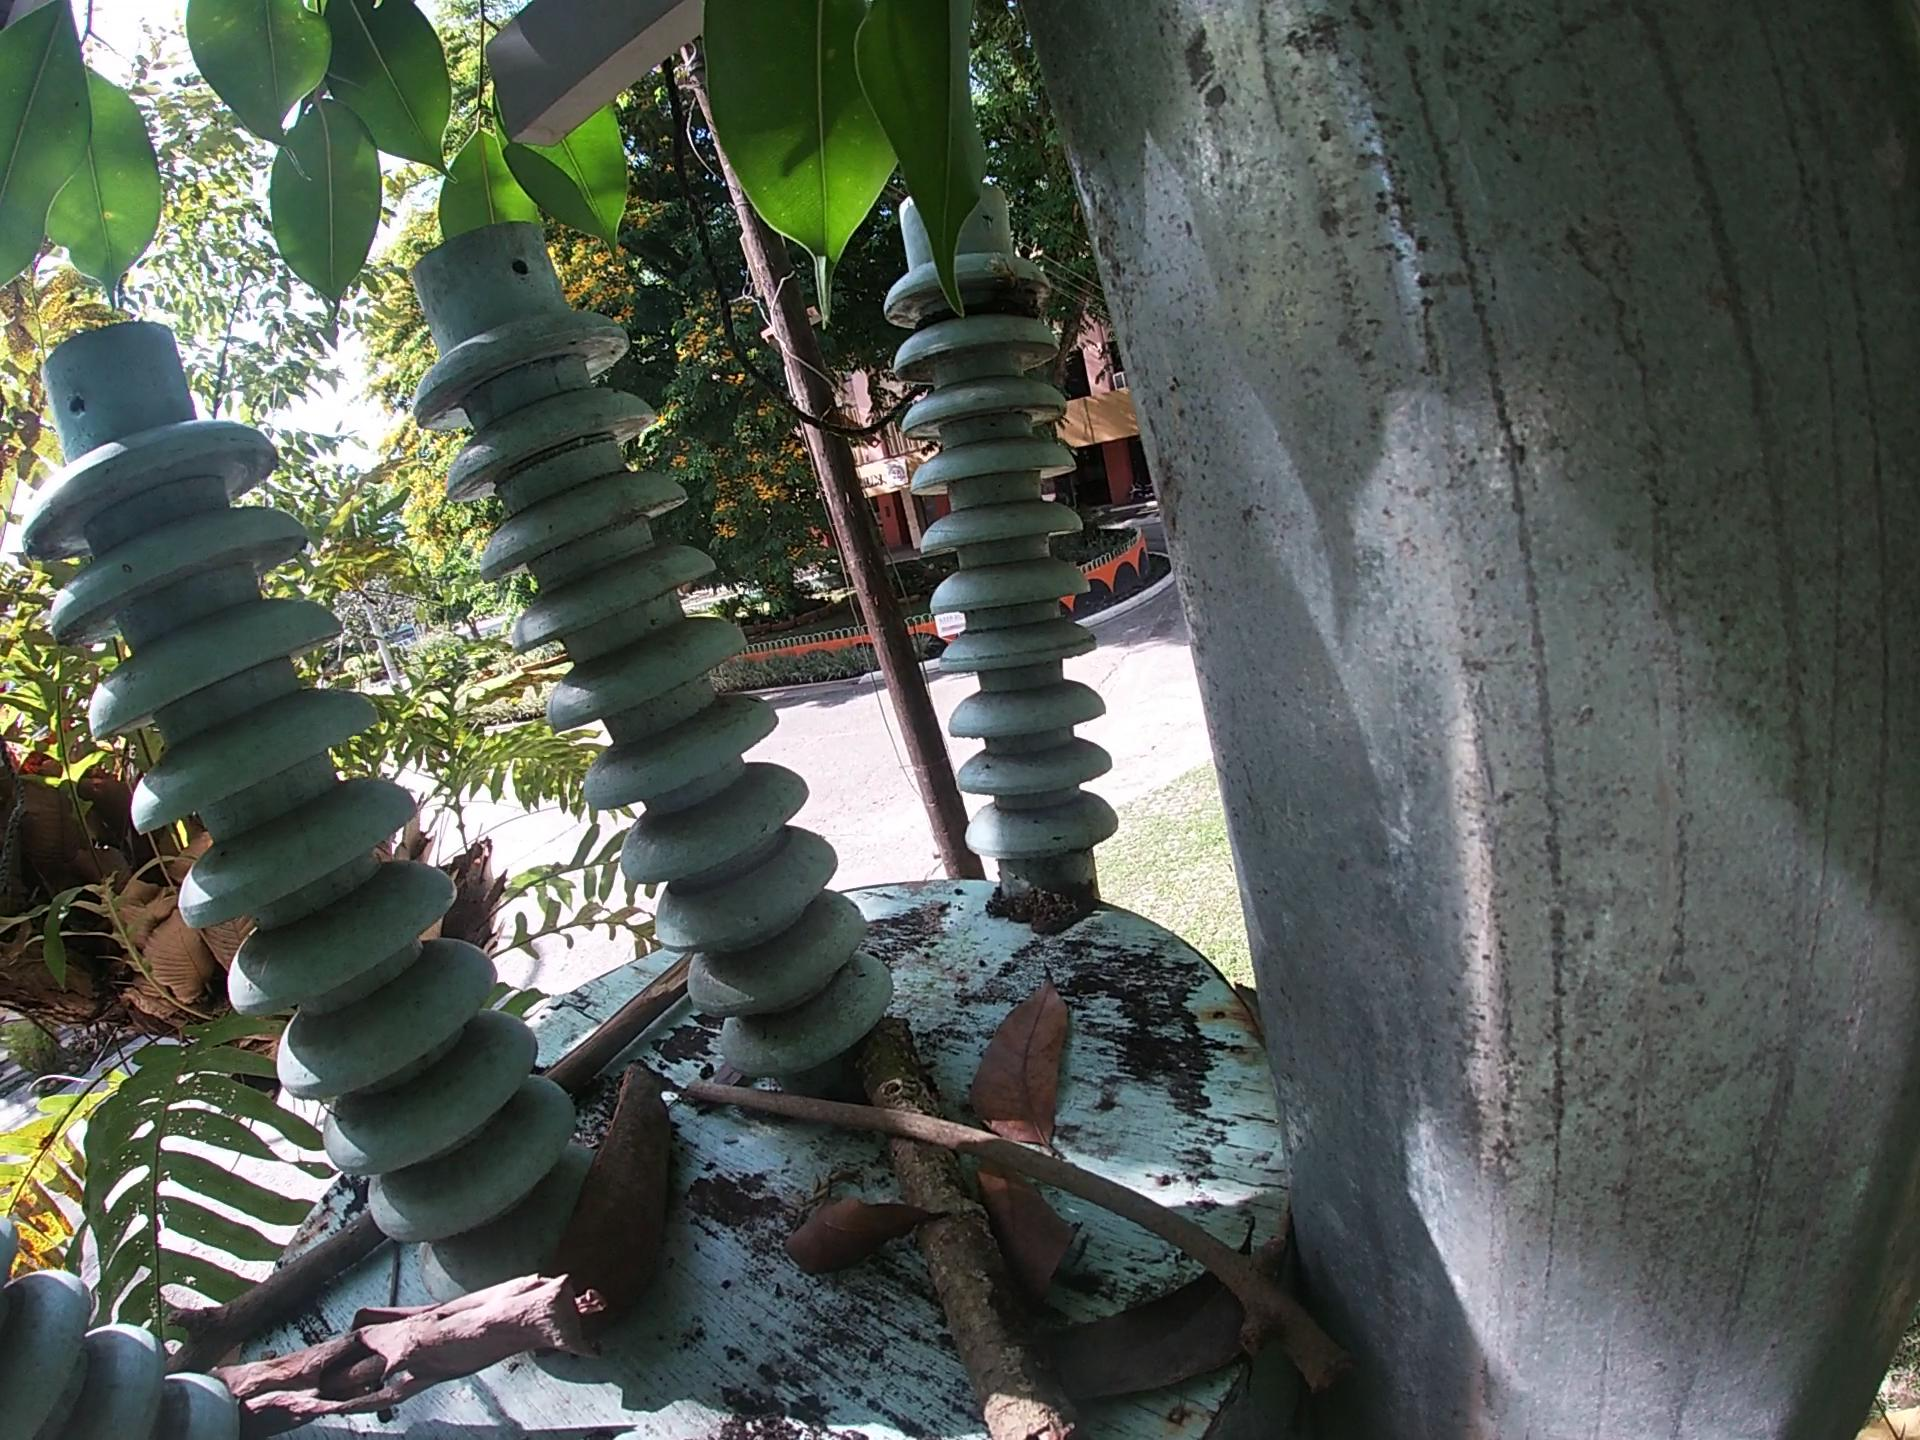leaf: (1027, 1209, 1268, 1407), (960, 961, 1076, 1165), (969, 1153, 1082, 1311), (782, 1192, 951, 1281)
mahogany fruit: (543, 1060, 692, 1355)
tree branch: (680, 1075, 1368, 1401), (838, 1001, 1092, 1438), (209, 1265, 615, 1438), (159, 1210, 398, 1378), (537, 947, 714, 1100)
